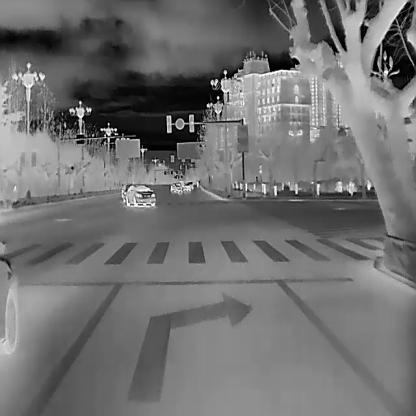car: (125, 183, 156, 206), (170, 182, 182, 194), (183, 182, 191, 191)
